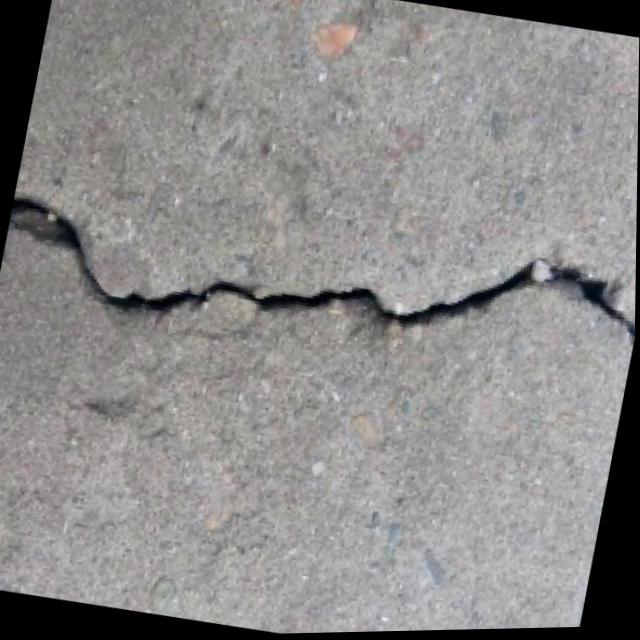Crack: (0, 102, 639, 417)
